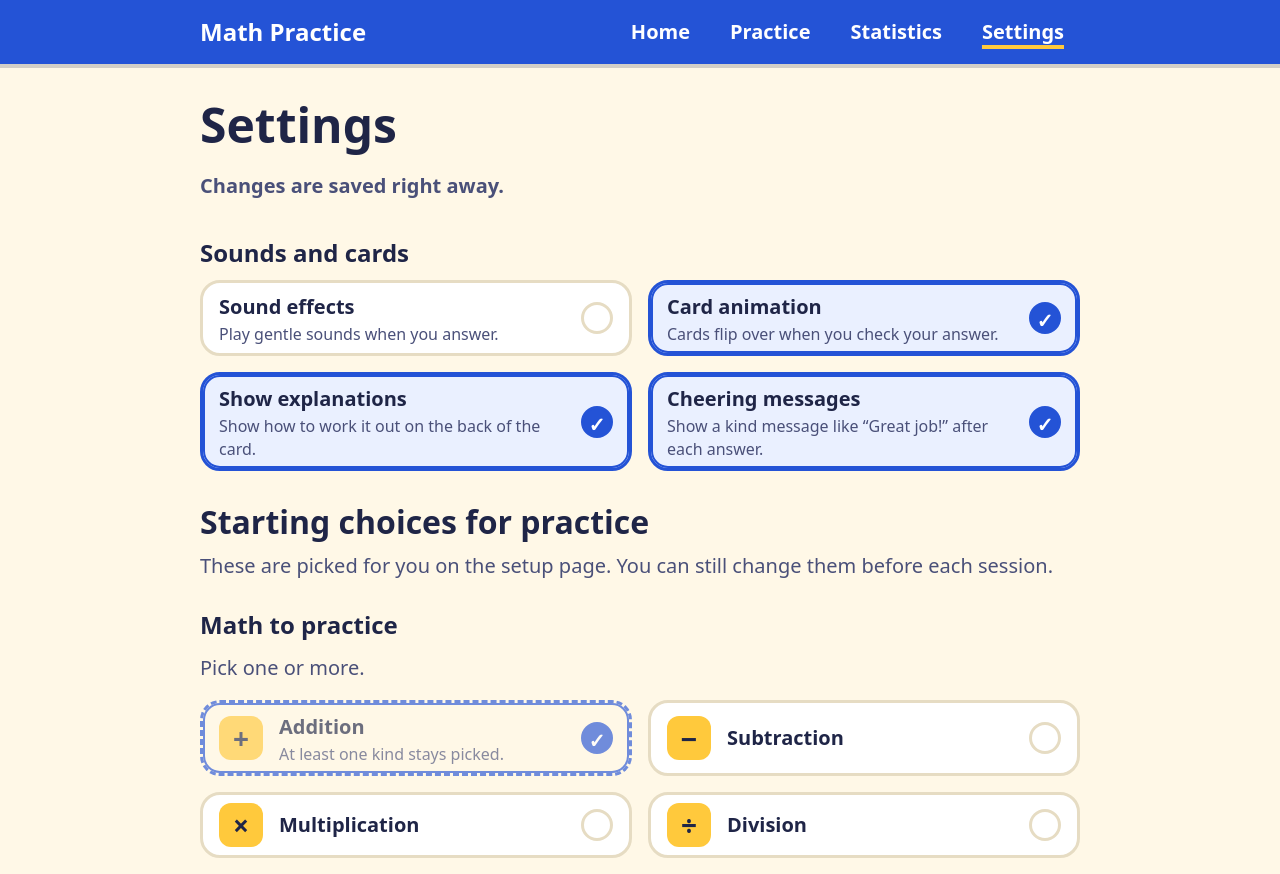
Scenario: SettingsPage › keeps at least one default operation picked
Expected: the heading "Settings" is shown, 200,92 -> 397,157
Expected: the checkbox labelled "+ Addition At least one kind stays picked. ✓" is disabled, 200,700 -> 632,776
Click the checkbox labelled "− Subtraction" at coordinates (689, 738), box 648,700 -> 1080,776
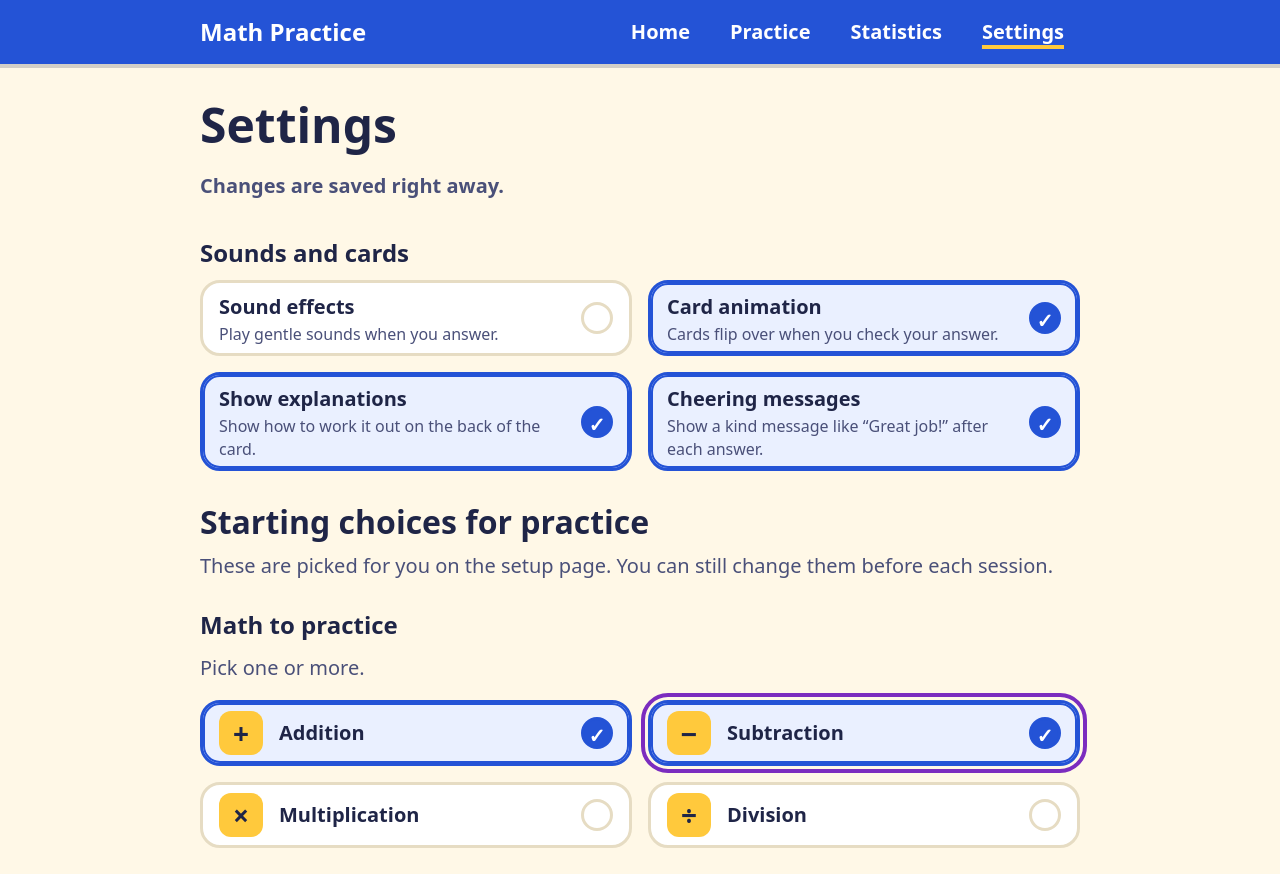
Now the checkbox labelled "+ Addition ✓" is enabled
Click the checkbox labelled "+ Addition ✓" at coordinates (241, 733), box 200,700 -> 632,766
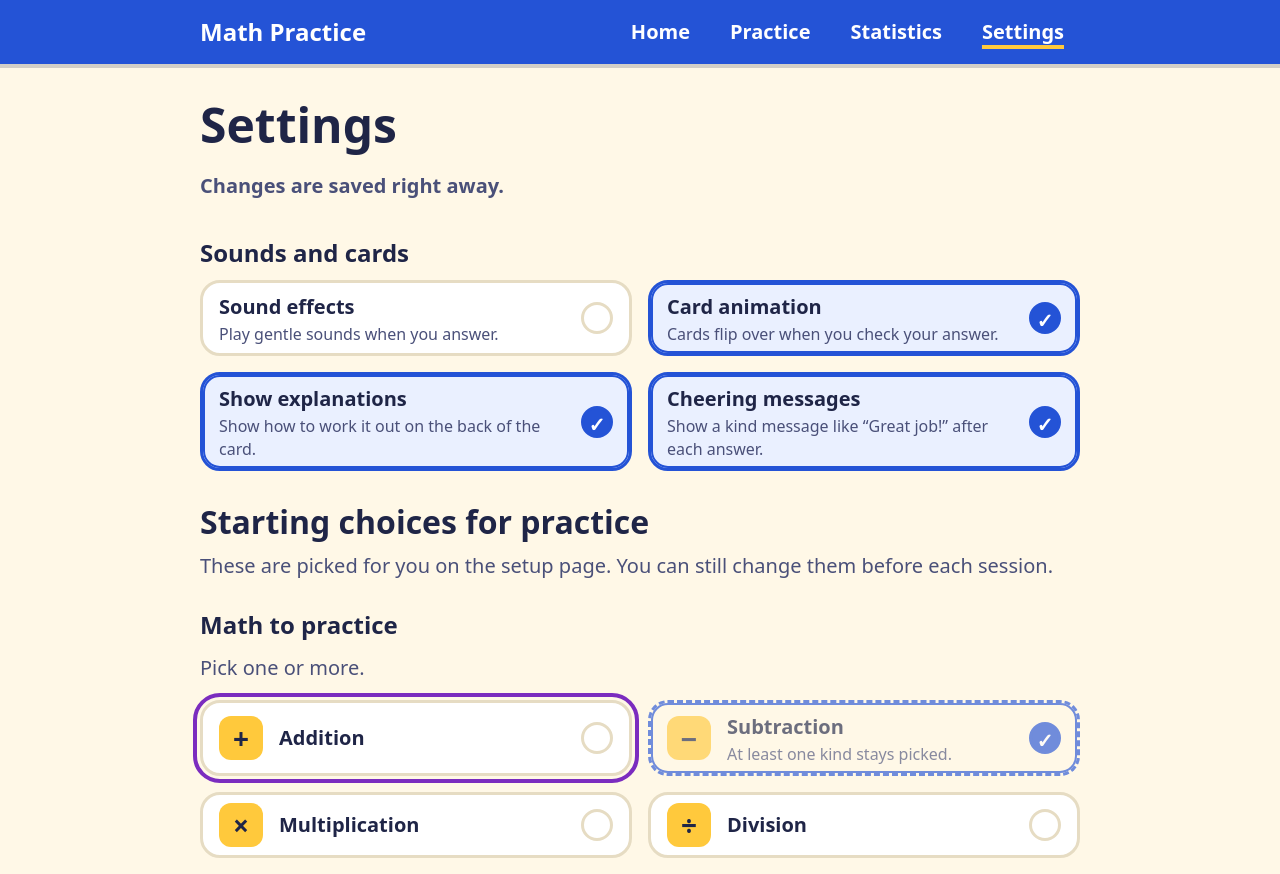
Now the checkbox labelled "− Subtraction At least one kind stays picked. ✓" is disabled, box 648,700 -> 1080,776
